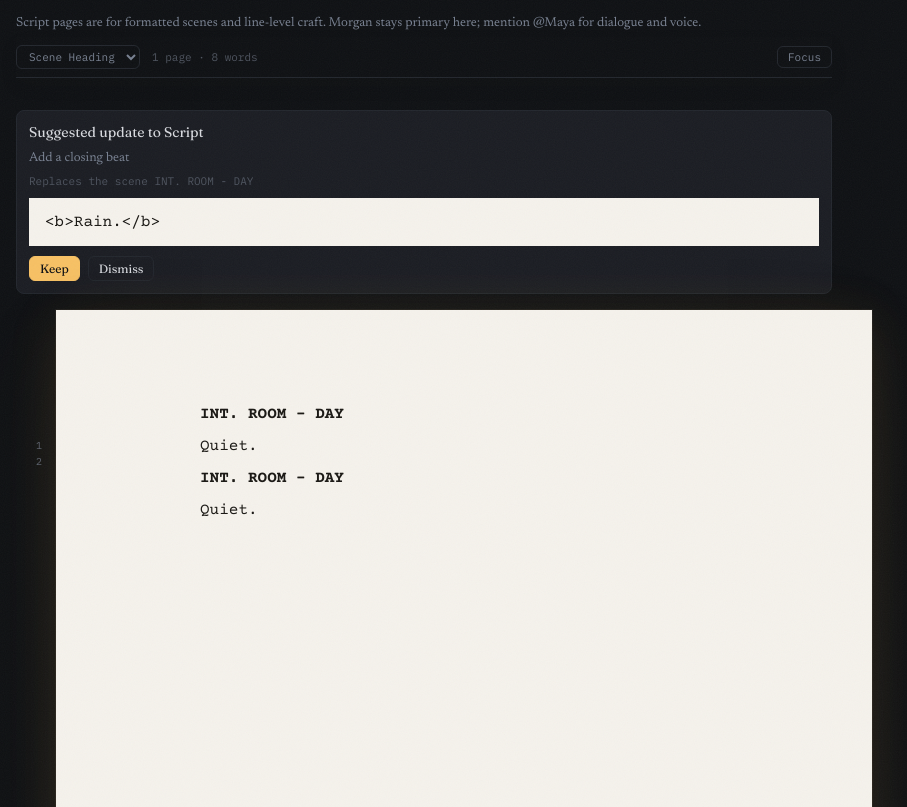
Script Morgan proposals › keeps an ambiguous scene unchanged and explains why
Click the button "Keep".
click(54, 268)  # box x1=29 y1=256 x2=80 y2=280
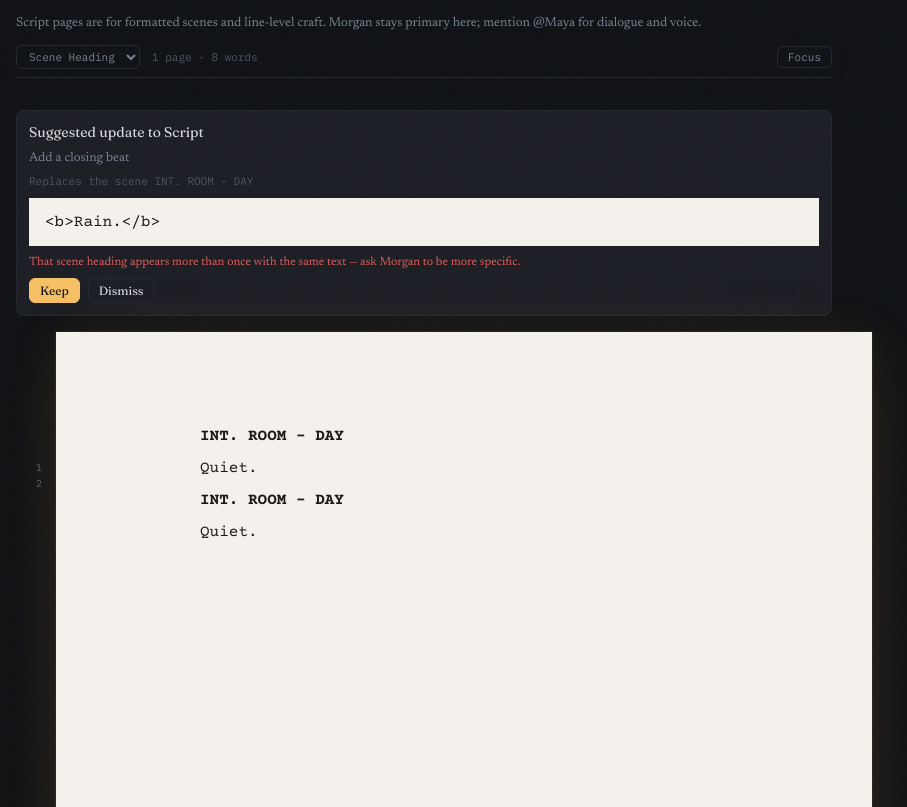
Expected: the message shows "That scene heading appears more than once with the same text", x1=29 y1=256 x2=520 y2=268
